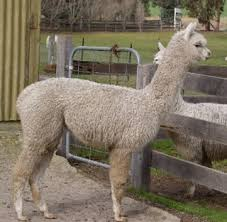alpaca: (14, 20, 211, 221)
